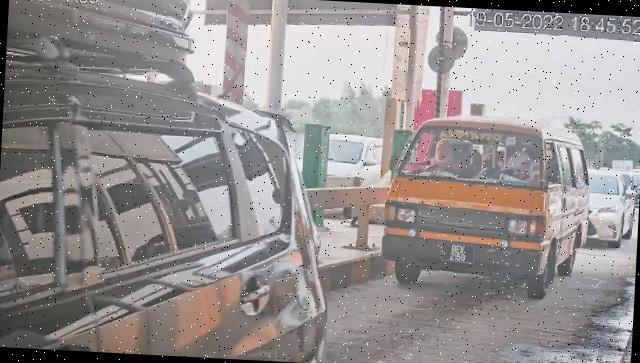License_Plate: (440, 242, 478, 268)
van: (381, 111, 593, 303)
